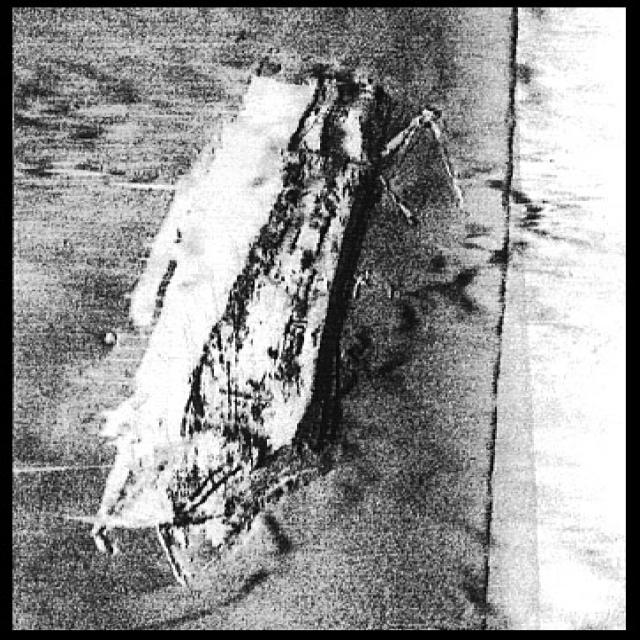ship: (118, 68, 396, 531)
